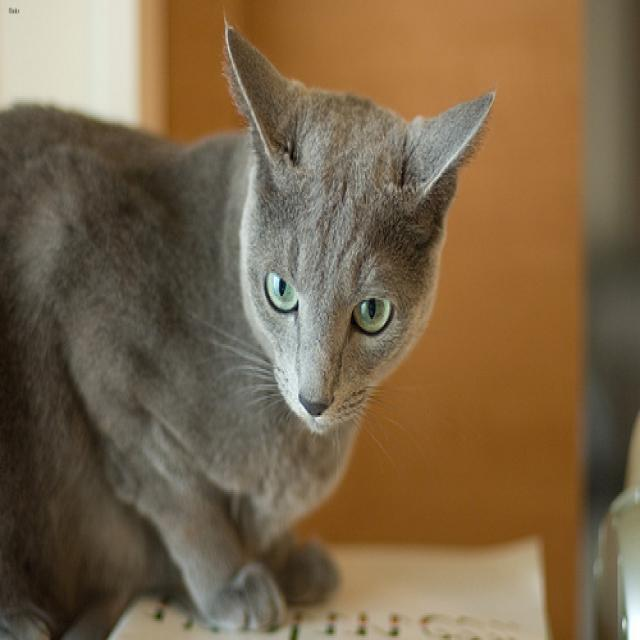Russian_Blue: (223, 21, 493, 431)
